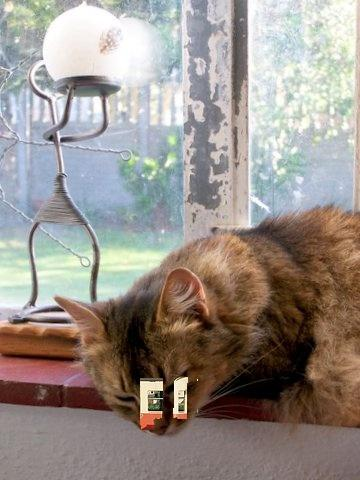tampered: (141, 378, 198, 430)
